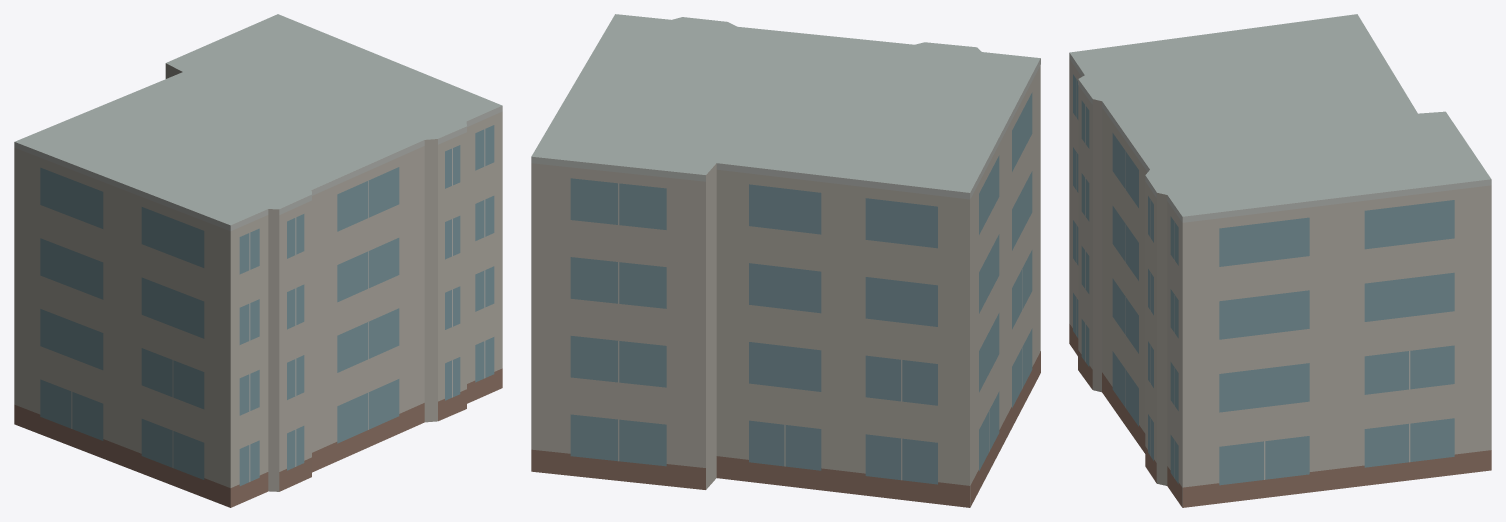
Rendered from survey-upis-32622138.glb.
3 views of the same model, side by side, from view 1: azimuth 30°, elevation 25°; view 2: azimuth 150°, elevation 25°; view 3: azimuth 270°, elevation 25° (orthographic). The views are drawn at different scales.
Parts seen in each view (by area): view 1: survey-upis-32622138.tmp; view 2: survey-upis-32622138.tmp; view 3: survey-upis-32622138.tmp.
Part boxes in pixels (left/top/right/bottom): survey-upis-32622138.tmp: left=14, top=14, right=502, bottom=507; survey-upis-32622138.tmp: left=531, top=14, right=1040, bottom=507; survey-upis-32622138.tmp: left=1069, top=14, right=1491, bottom=507.
Bounding box in the file's own units: 17.49 × 11.7 × 15.39.
